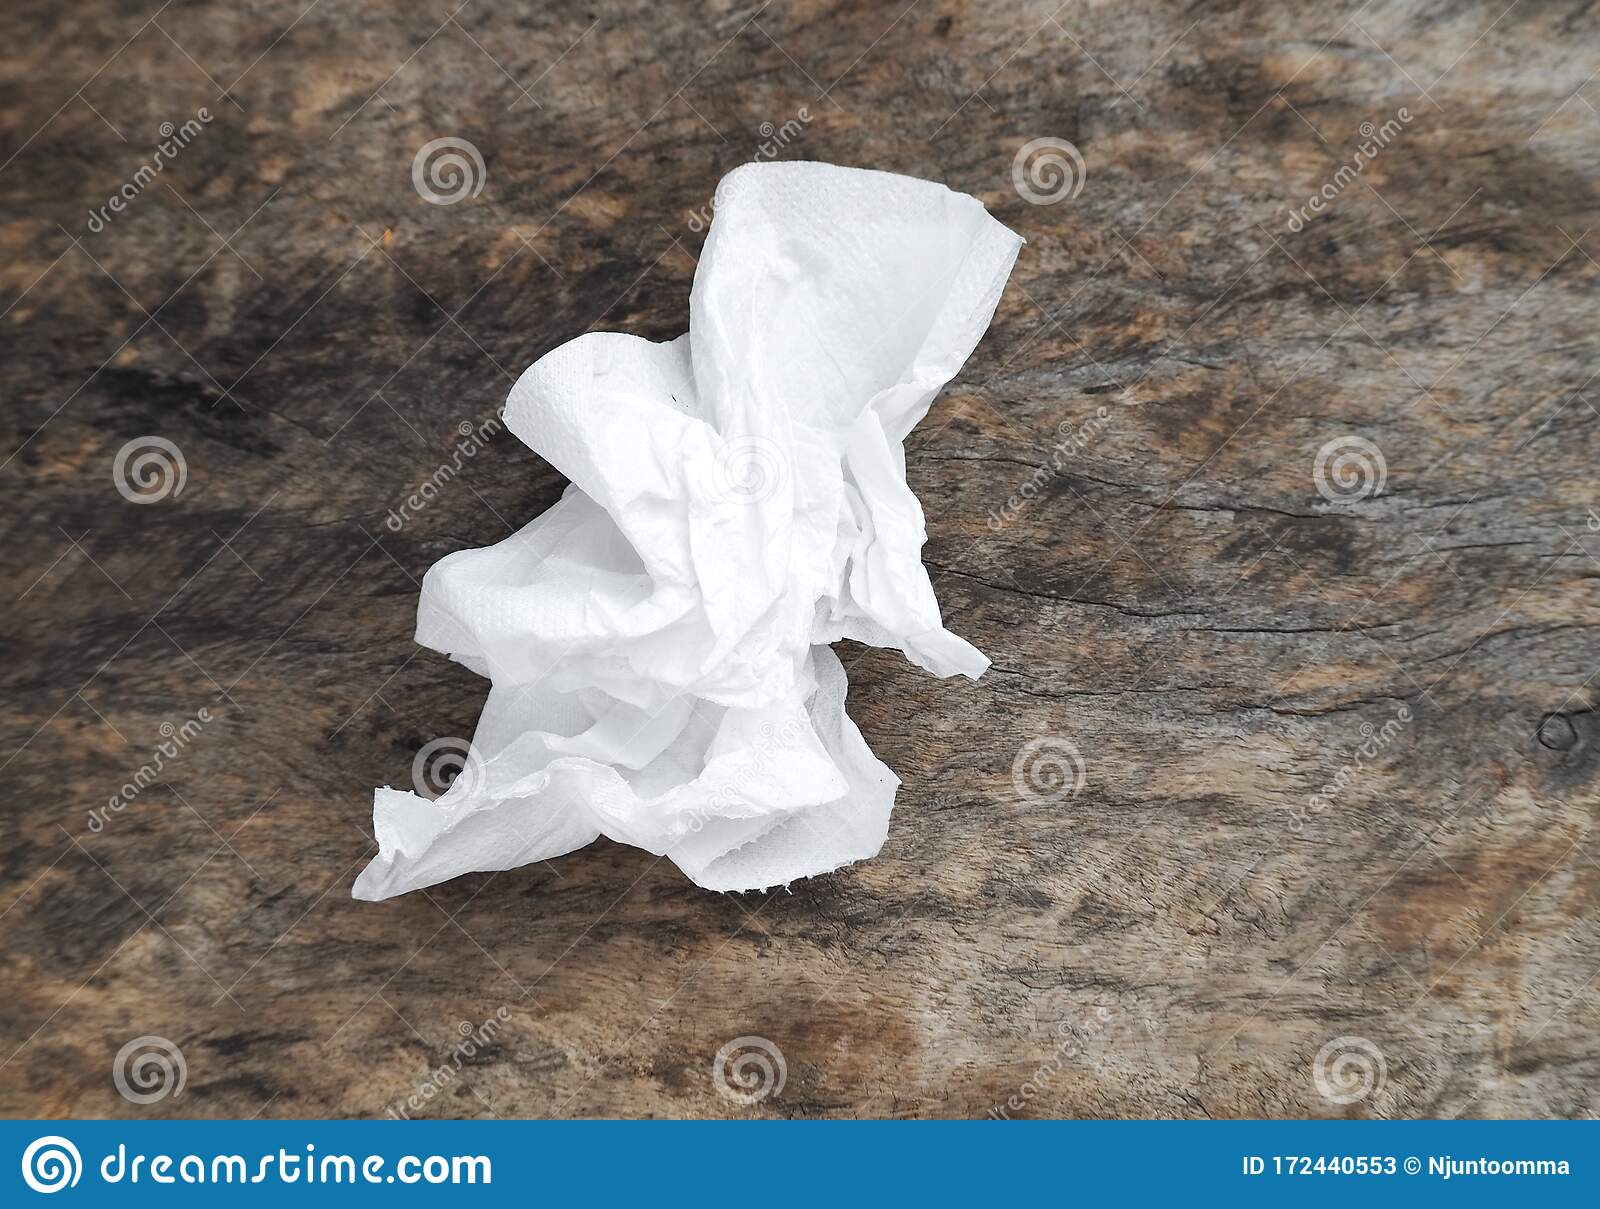Tissue: (345, 151, 1034, 914)
